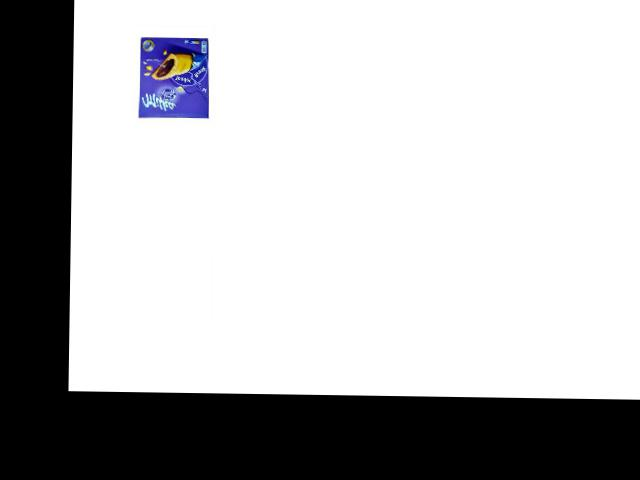chocolate: (134, 31, 212, 123)
